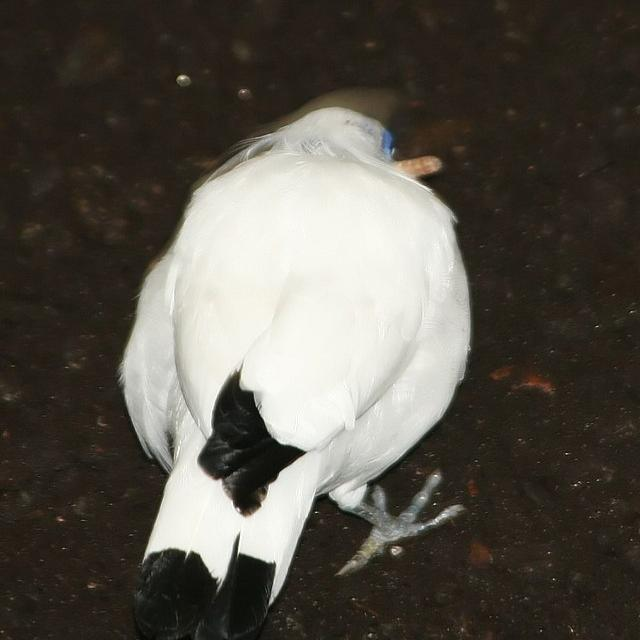Jalak Bali: (107, 54, 510, 620)
